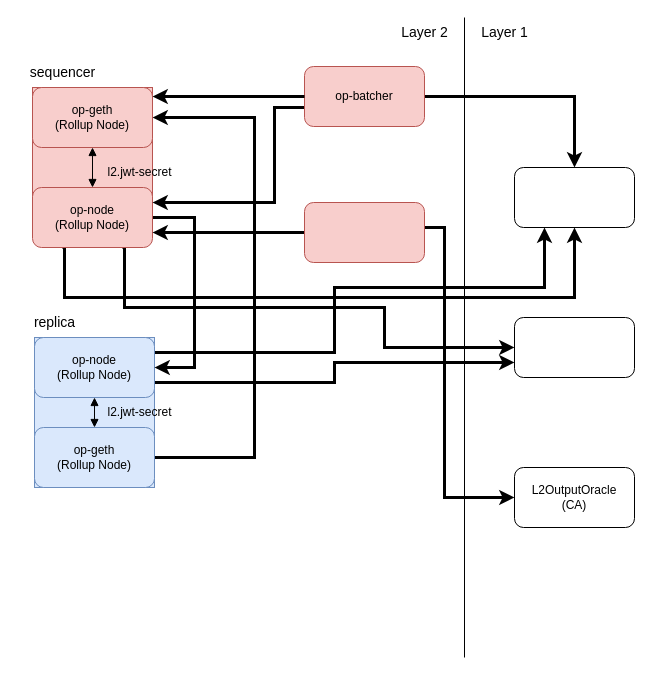
The diagram is 652 pixels wide and 676 high, and some of its shapes have lost their labels. Here are the shapes that lost their labels. From the top down, the box of each, then its label:
(514, 166, 634, 228): BatchInbox (EOA)
(304, 202, 424, 262): op-proposer
(514, 316, 634, 378): OptimismPortal (CA)
